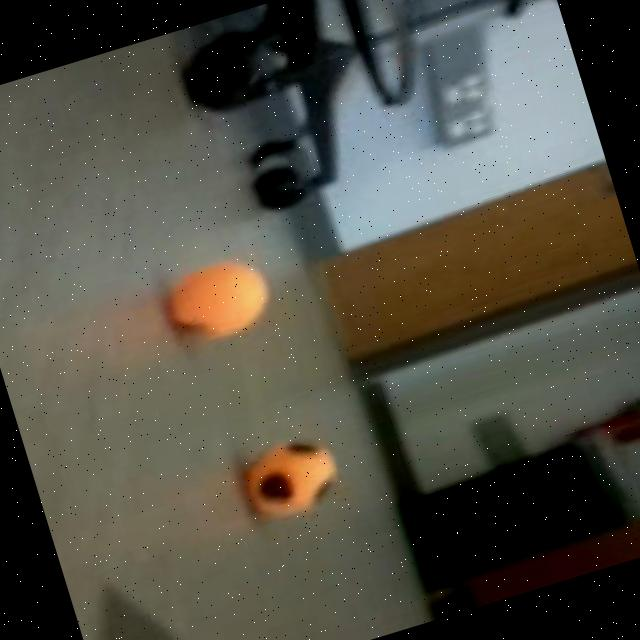ping-pong-ball: (153, 240, 278, 355), (232, 426, 350, 527)
